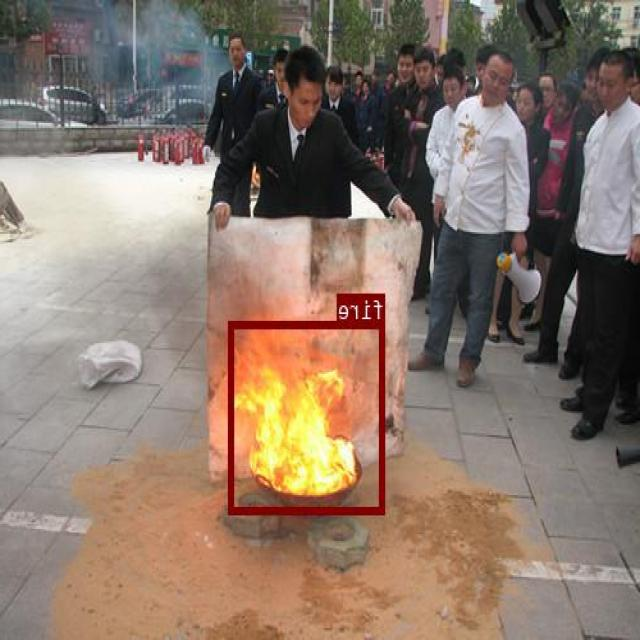fire: (230, 320, 386, 514)
